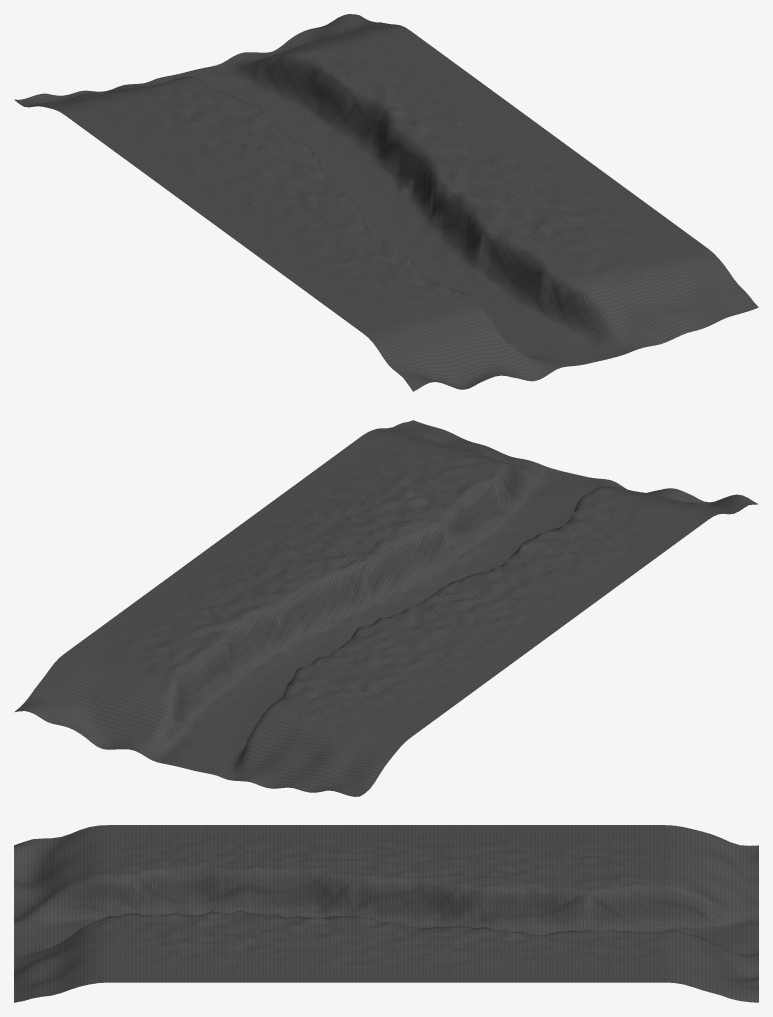
File: AITerrain_02_CANYON.obj
3 renders of one model, top to bottom at view 1: azimuth 30°, elevation 25°; view 2: azimuth 150°, elevation 25°; view 3: azimuth 270°, elevation 25°, orthographic. The views are drawn at different scales.
Visible parts, largest first — view 1: AITerrain_02_CANYON; view 2: AITerrain_02_CANYON; view 3: AITerrain_02_CANYON.
Boxes of the visible parts, box(x1,y1,x2,y2) form: AITerrain_02_CANYON: box(14, 14, 758, 391); AITerrain_02_CANYON: box(14, 420, 757, 796); AITerrain_02_CANYON: box(14, 825, 758, 1002).
Bounding box in the file's own units: 1000 × 132 × 2000.
Materials: 1 (1 with a texture image).
